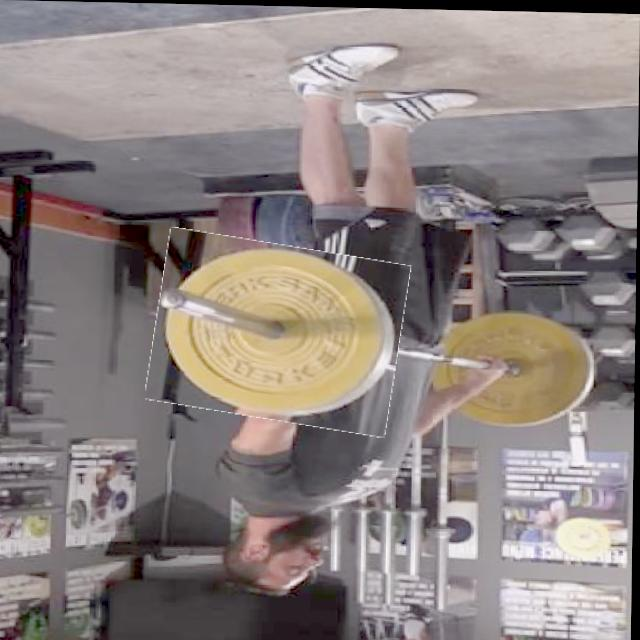barbell: (152, 234, 408, 429)
